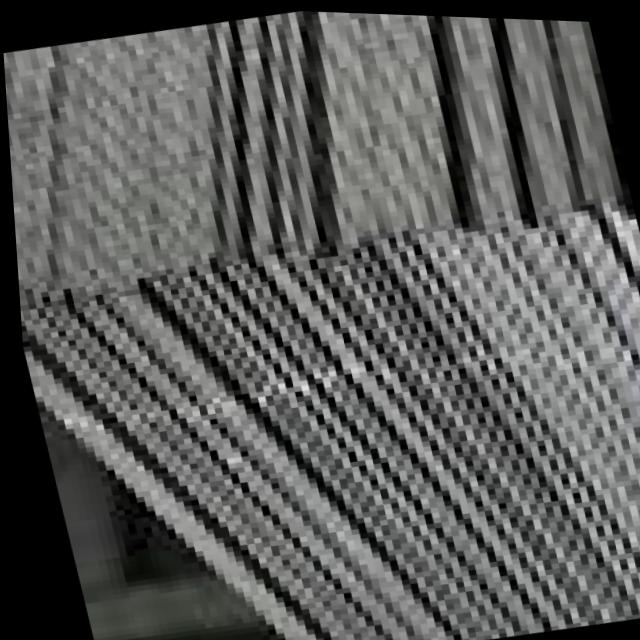metal-plates: (4, 9, 640, 640)
